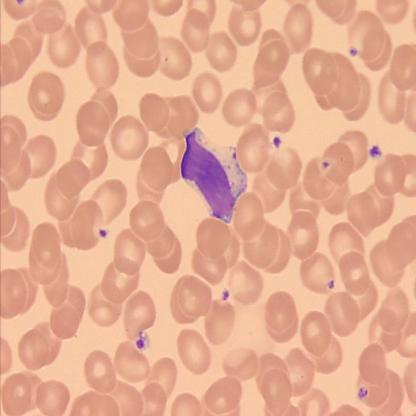Atypical lymphocyte: (179, 125, 248, 224)
